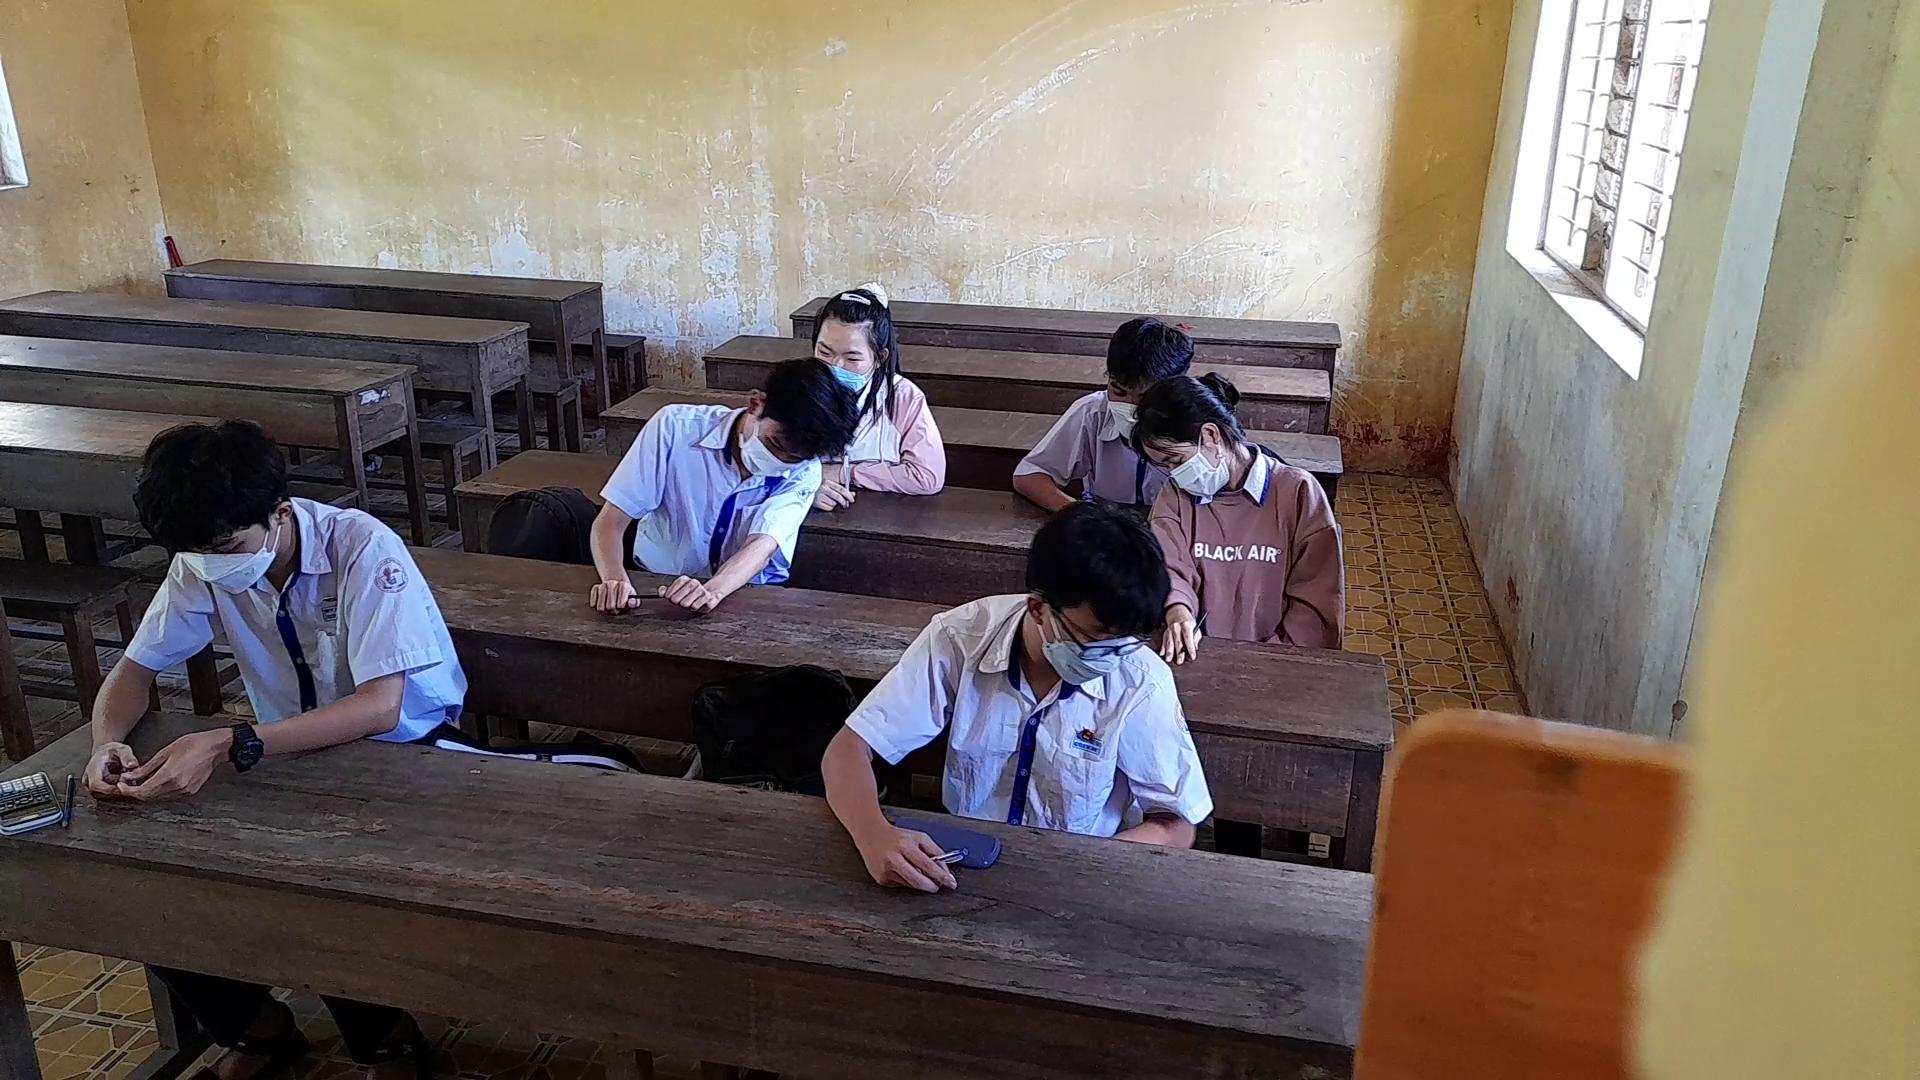Bend Over The Desk: (1006, 483, 1187, 694), (717, 353, 872, 492), (1124, 365, 1265, 500)
Normal: (80, 409, 468, 808)
